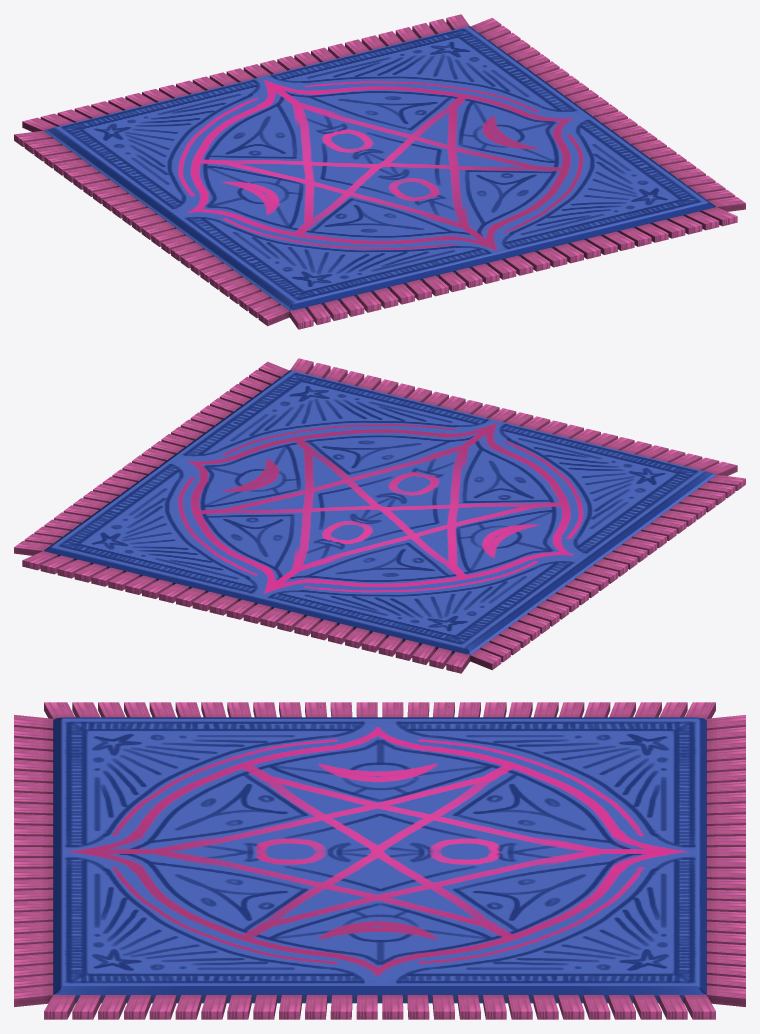
The model's file is Carpet.fbx.
The picture shows the model from 3 angles, top to bottom: view 1: azimuth 30°, elevation 25°; view 2: azimuth 150°, elevation 25°; view 3: azimuth 270°, elevation 25°; orthographic projection. The views are drawn at different scales.
Visible parts, largest first — view 1: Carpet111; view 2: Carpet111; view 3: Carpet111.
Boxes of the visible parts, x1,y1,x2,y2 form: Carpet111: (14,14,745,329); Carpet111: (14,358,745,673); Carpet111: (14,702,745,1019).
Size of the model in its own units: 1009 by 20.62 by 1009.
